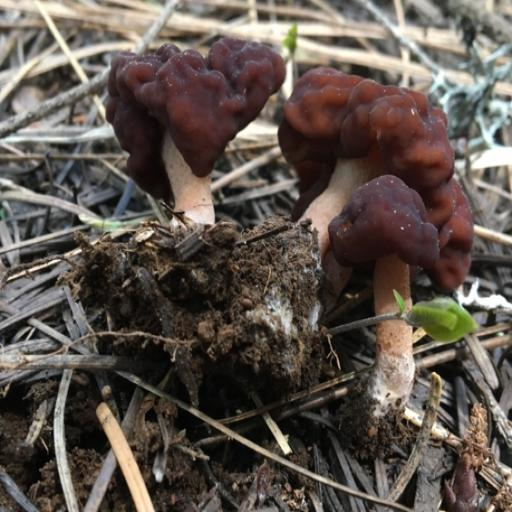False Morel: (254, 44, 512, 408), (71, 6, 295, 242)
